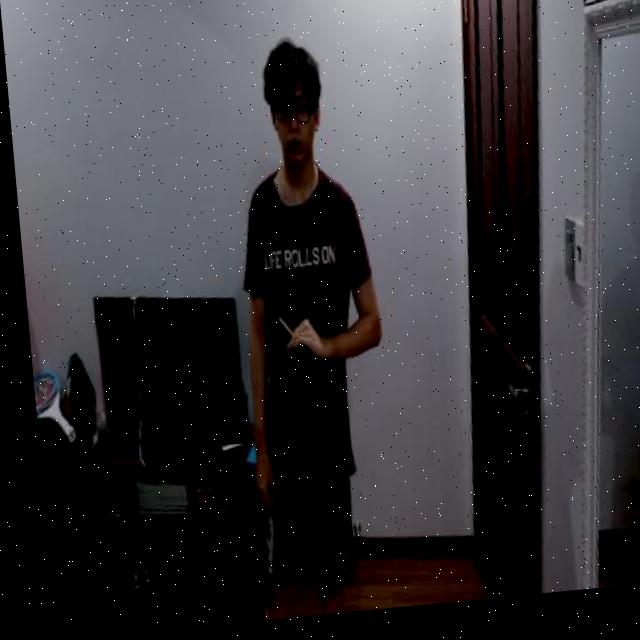cigarette: (271, 319, 288, 344)
